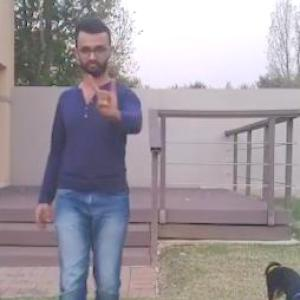takeoff-hand: (80, 70, 132, 123)
